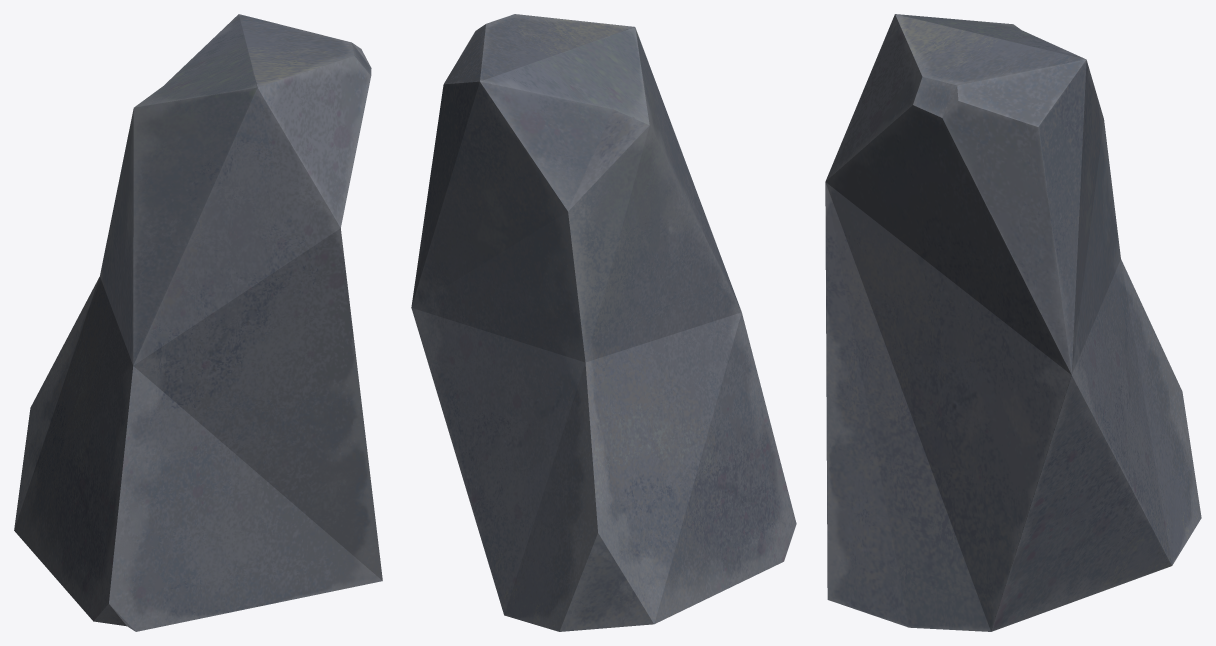
File: stylized_rock_27.fbx
The picture shows the model from 3 angles, left to right: view 1: azimuth 30°, elevation 25°; view 2: azimuth 150°, elevation 25°; view 3: azimuth 270°, elevation 25°; orthographic projection. The views are drawn at different scales.
Parts seen in each view (by area): view 1: stylized_rock_27; view 2: stylized_rock_27; view 3: stylized_rock_27.
Part boxes in pixels (x1,y1,x2,y2): stylized_rock_27: (14, 14, 382, 631); stylized_rock_27: (411, 14, 796, 631); stylized_rock_27: (825, 14, 1201, 631).
Bounding box in the file's own units: 89.21 × 148 × 88.18.
